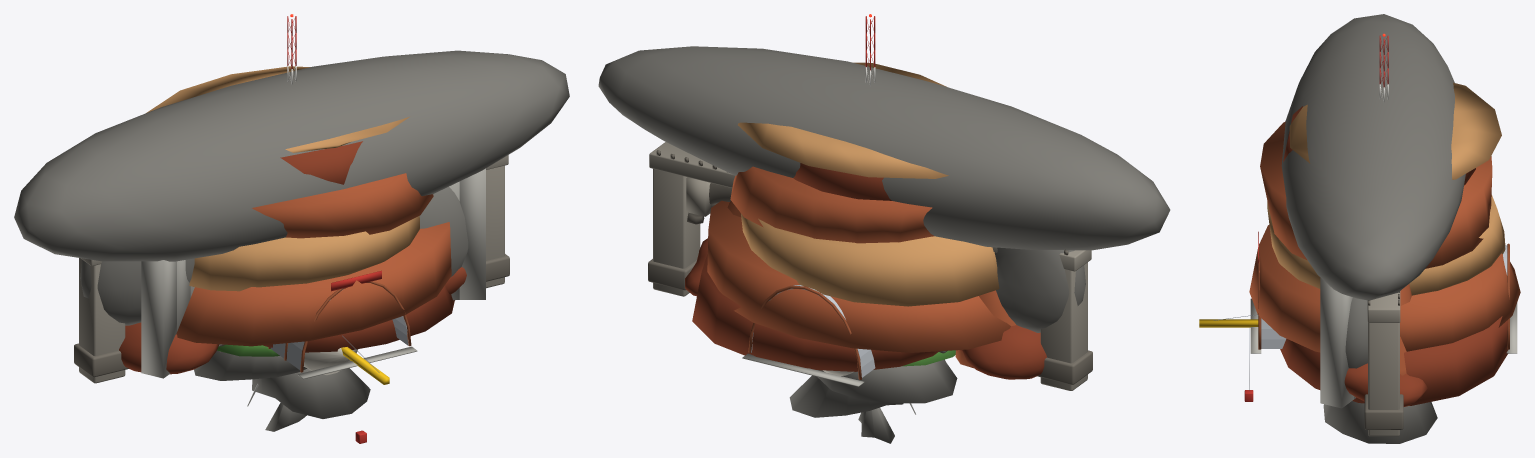
Rendered from airraces.glb.
3 views of the same model, side by side, from view 1: azimuth 30°, elevation 25°; view 2: azimuth 150°, elevation 25°; view 3: azimuth 270°, elevation 25° (orthographic). The views are drawn at different scales.
Parts seen in each view (by area): view 1: ar_waterfall_cliff, ar_mesa, ar_dam, ar_floating_isle, ar_bridge_stone, ar_rock_arch, ar_hangar_big, ar_crane_jib, ar_blimp; view 2: ar_waterfall_cliff, ar_mesa, ar_bridge_stone, ar_floating_isle, ar_rock_arch, ar_hangar_big; view 3: ar_waterfall_cliff, ar_mesa, ar_bridge_stone, ar_dam, ar_floating_isle, ar_hangar_big, ar_rock_arch, ar_crane_jib, ar_mast.
Part boxes in pixels (x1=…): ar_waterfall_cliff: x1=14, y1=50, x2=569, y2=325; ar_mesa: x1=146, y1=66, x2=454, y2=352; ar_dam: x1=141, y1=168, x2=485, y2=378; ar_floating_isle: x1=194, y1=344, x2=370, y2=431; ar_bridge_stone: x1=74, y1=155, x2=509, y2=383; ar_rock_arch: x1=119, y1=267, x2=466, y2=374; ar_hangar_big: x1=268, y1=270, x2=417, y2=379; ar_crane_jib: x1=341, y1=335, x2=389, y2=443; ar_blimp: x1=303, y1=348, x2=358, y2=374; ar_waterfall_cliff: x1=598, y1=46, x2=1170, y2=332; ar_mesa: x1=692, y1=62, x2=1010, y2=371; ar_bridge_stone: x1=648, y1=142, x2=1092, y2=390; ar_floating_isle: x1=789, y1=350, x2=957, y2=443; ar_rock_arch: x1=685, y1=201, x2=1046, y2=379; ar_hangar_big: x1=742, y1=285, x2=875, y2=386; ar_waterfall_cliff: x1=1281, y1=14, x2=1465, y2=368; ar_mesa: x1=1249, y1=82, x2=1520, y2=405; ar_bridge_stone: x1=1364, y1=291, x2=1403, y2=436; ar_dam: x1=1320, y1=277, x2=1355, y2=408; ar_floating_isle: x1=1323, y1=401, x2=1437, y2=443; ar_hangar_big: x1=1250, y1=231, x2=1517, y2=353; ar_rock_arch: x1=1344, y1=284, x2=1427, y2=406; ar_crane_jib: x1=1199, y1=314, x2=1258, y2=401; ar_mast: x1=1379, y1=33, x2=1388, y2=102.
Bounding box in the file's own units: 172 × 125 × 90.42.
